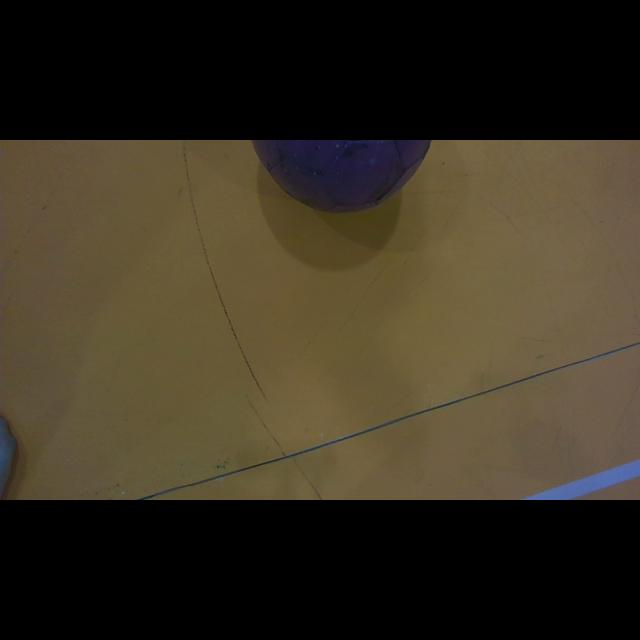R: (252, 141, 431, 212)
